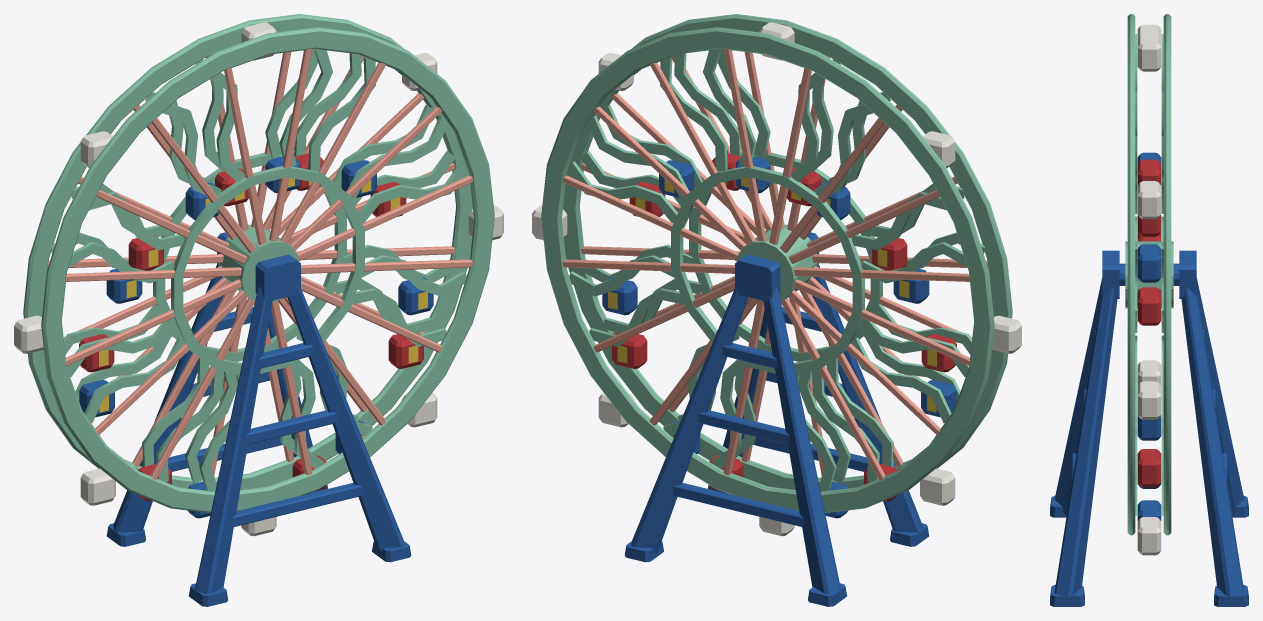
File: wonder-wheel.glb
The picture shows the model from 3 angles, left to right: view 1: azimuth 30°, elevation 25°; view 2: azimuth 150°, elevation 25°; view 3: azimuth 270°, elevation 25°; orthographic projection.
Parts seen in each view (by area): view 1: Wonder Wheel; view 2: Wonder Wheel; view 3: Wonder Wheel.
Part boxes in pixels (x1,y1,x2,y2): Wonder Wheel: (14,14,503,606); Wonder Wheel: (532,14,1021,606); Wonder Wheel: (1050,14,1248,606).
Size of the model in its own units: 44.8 by 46 by 16.
